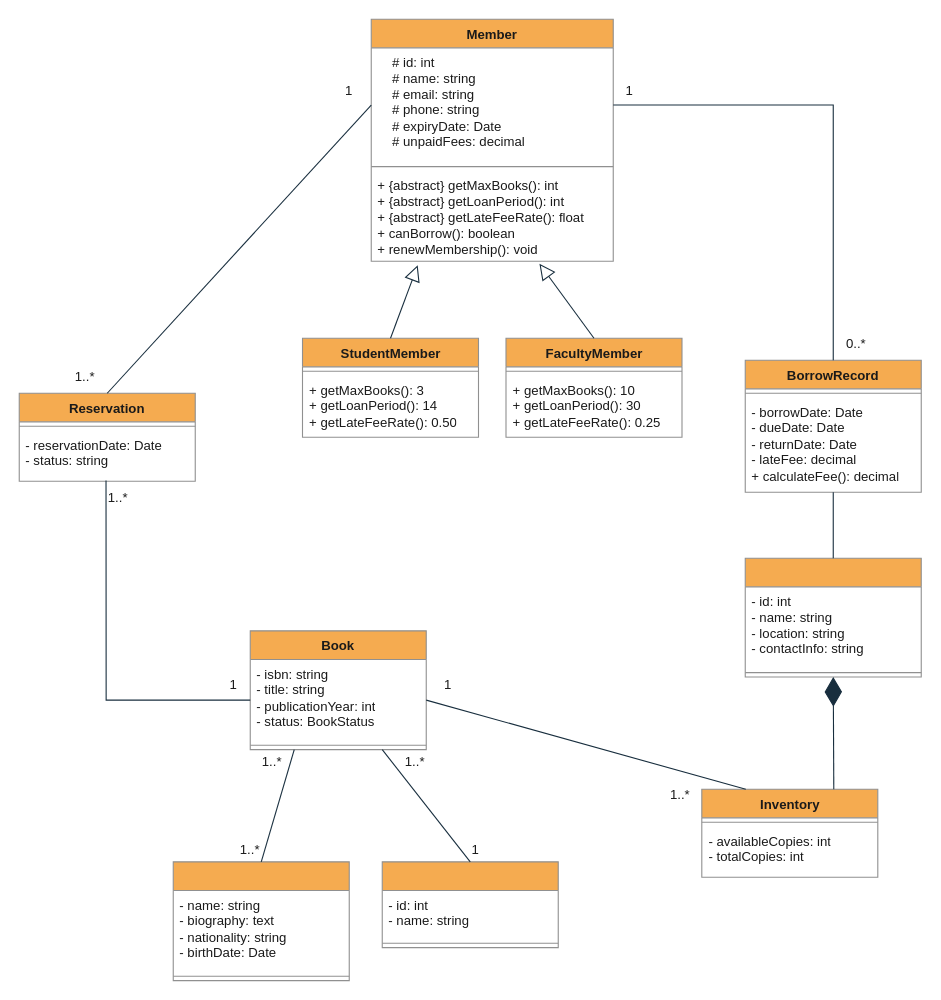
This 941x1000 diagram has some shape labels left out. Here are the shapes that lost their labels. From the top down, the box of each, then its label:
(744, 557, 921, 677): LibraryBranch
(172, 861, 349, 981): Author
(381, 861, 558, 948): Category
